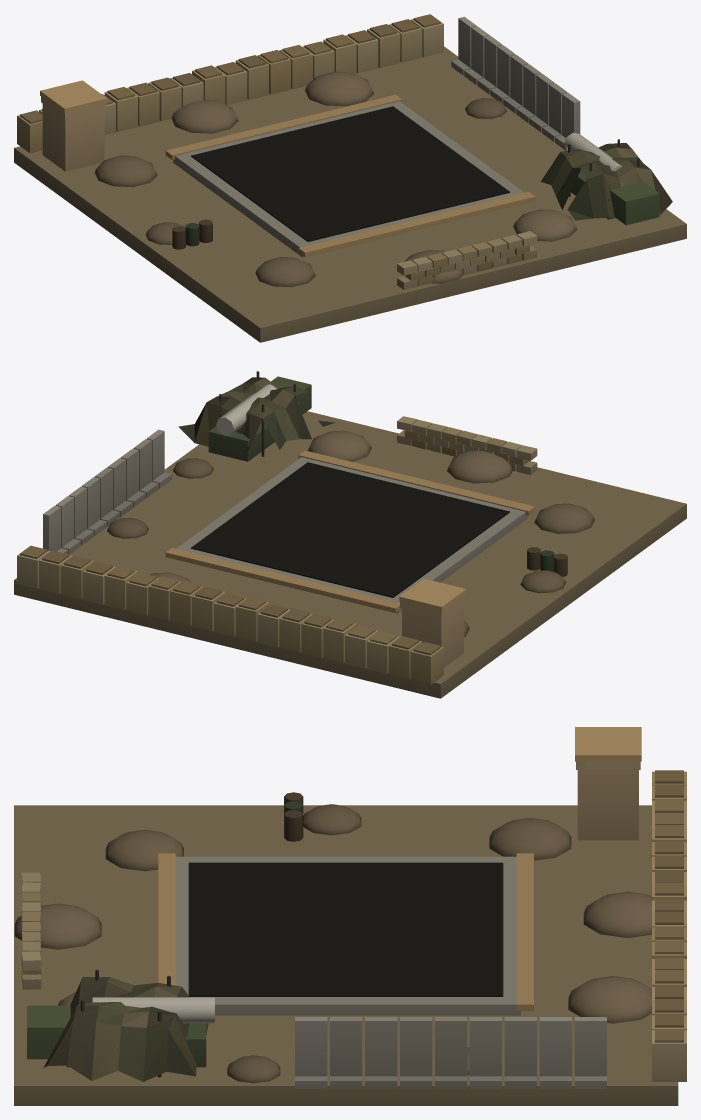
File: m_uplink_9ea7efa7.glb
The picture shows the model from 3 angles, top to bottom: view 1: azimuth 30°, elevation 25°; view 2: azimuth 150°, elevation 25°; view 3: azimuth 270°, elevation 25°; orthographic projection. The views are drawn at different scales.
Parts seen in each view (by area): view 1: mesh; view 2: mesh; view 3: mesh.
Part boxes in pixels (left/top/right/bottom): mesh: left=14, top=14, right=686, bottom=342; mesh: left=14, top=371, right=686, bottom=698; mesh: left=14, top=727, right=686, bottom=1105.
Size of the model in its own units: 78.63 by 13.4 by 77.
